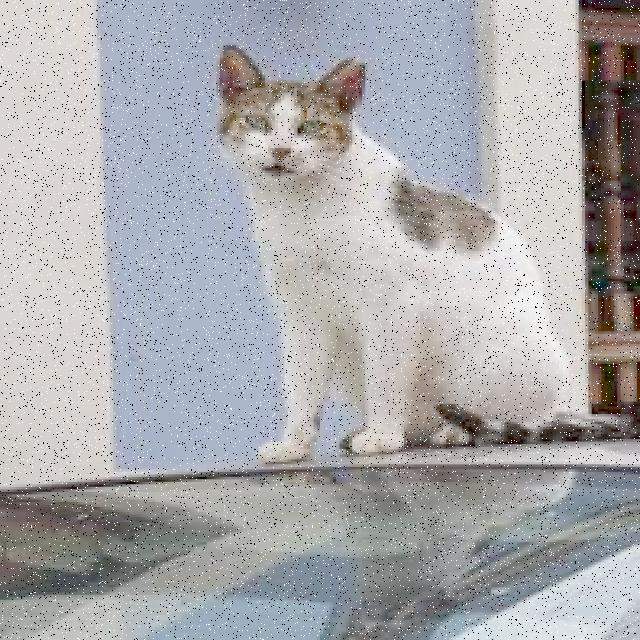cat: (219, 46, 567, 459)
